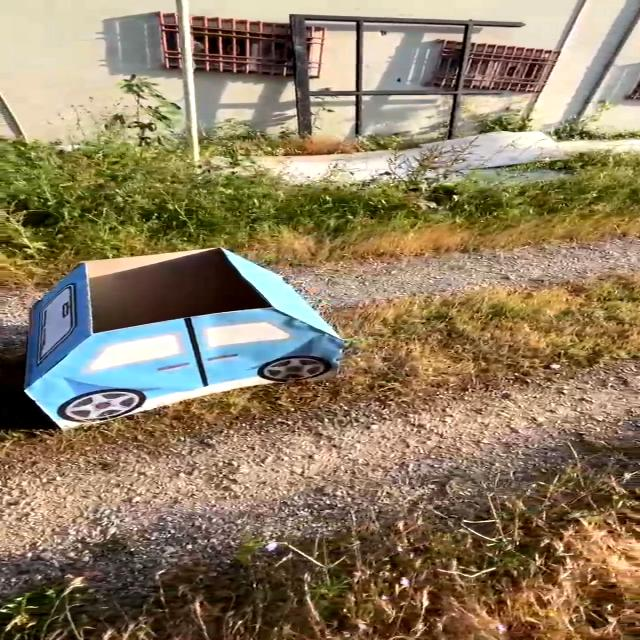blue_car: (0, 238, 373, 459)
